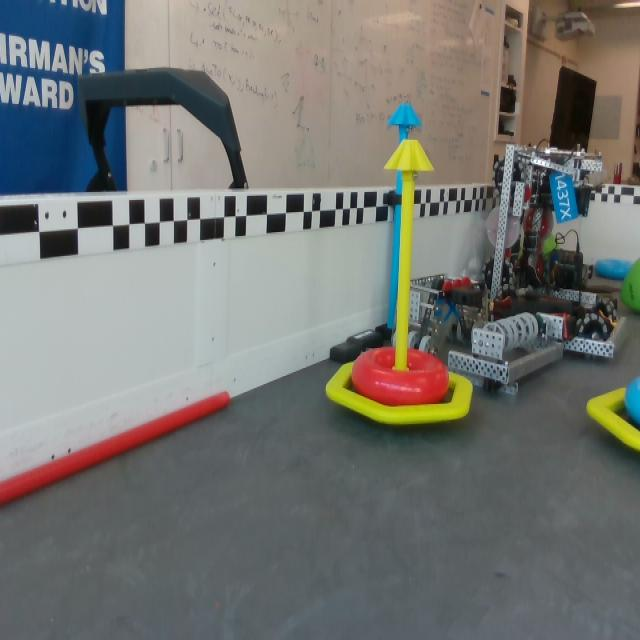Blue-Ring: (593, 258, 632, 278), (627, 377, 639, 423)
Mobile-Goal: (329, 139, 477, 429), (583, 382, 639, 455)
Red-Ring: (355, 348, 450, 406)
Yellow-Stake-Head: (384, 140, 436, 174)
zblue-Stake-Head: (388, 103, 422, 127)
